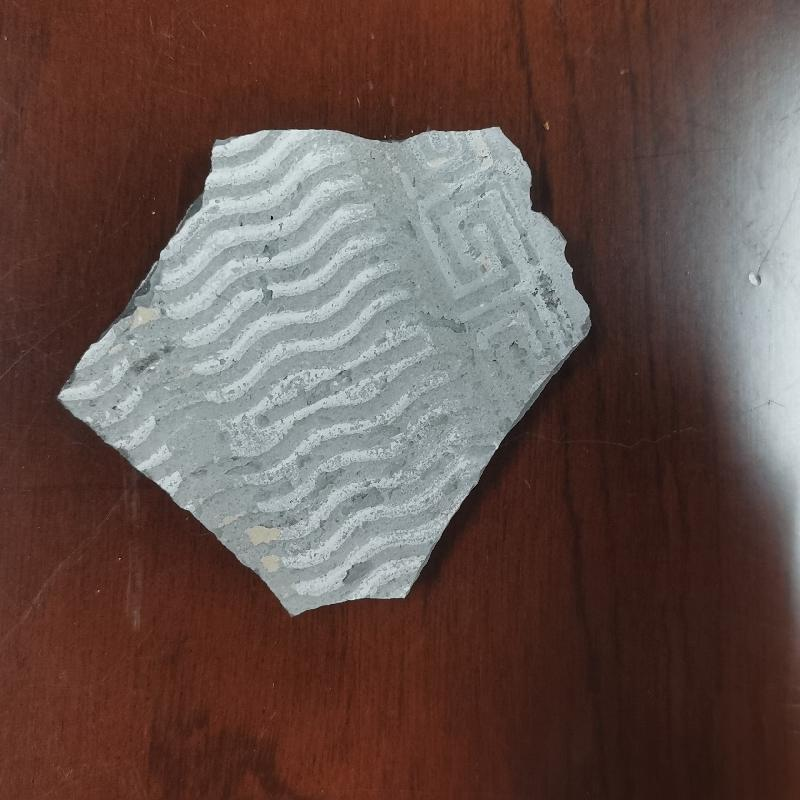tile: (47, 115, 601, 619)
